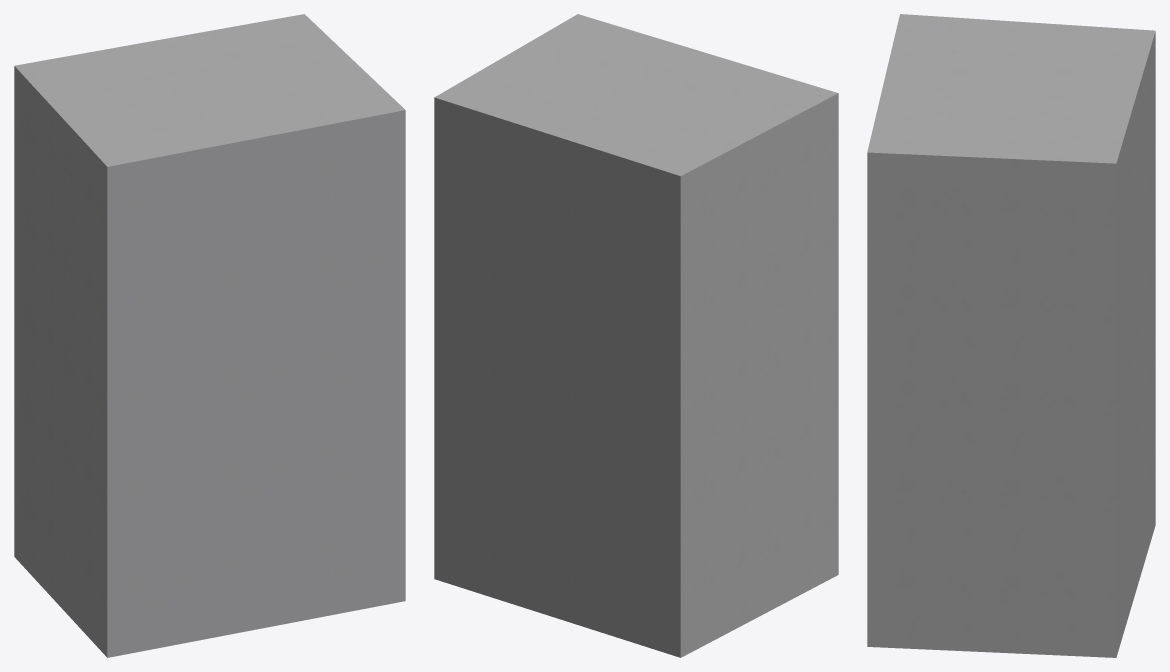
3 renders of one model, left to right at view 1: azimuth 30°, elevation 25°; view 2: azimuth 150°, elevation 25°; view 3: azimuth 270°, elevation 25°, orthographic. The views are drawn at different scales.
Parts seen in each view (by area): view 1: B293464041801062A0; view 2: B293464041801062A0; view 3: B293464041801062A0.
Part boxes in pixels (box(x1,y1,x2,y2)): B293464041801062A0: box(14, 14, 405, 657); B293464041801062A0: box(434, 14, 838, 657); B293464041801062A0: box(867, 14, 1155, 657).
Bounding box in the file's own units: 3.38 × 5.2 × 2.75.
1 material, 1 textured.
